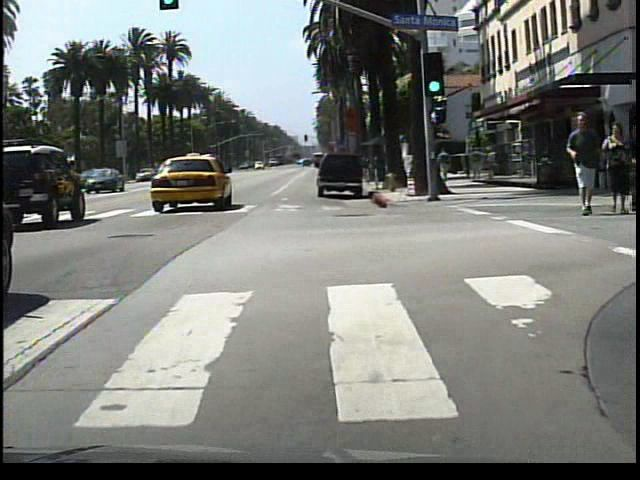person: (558, 103, 602, 224), (598, 124, 629, 222), (433, 144, 455, 185)
